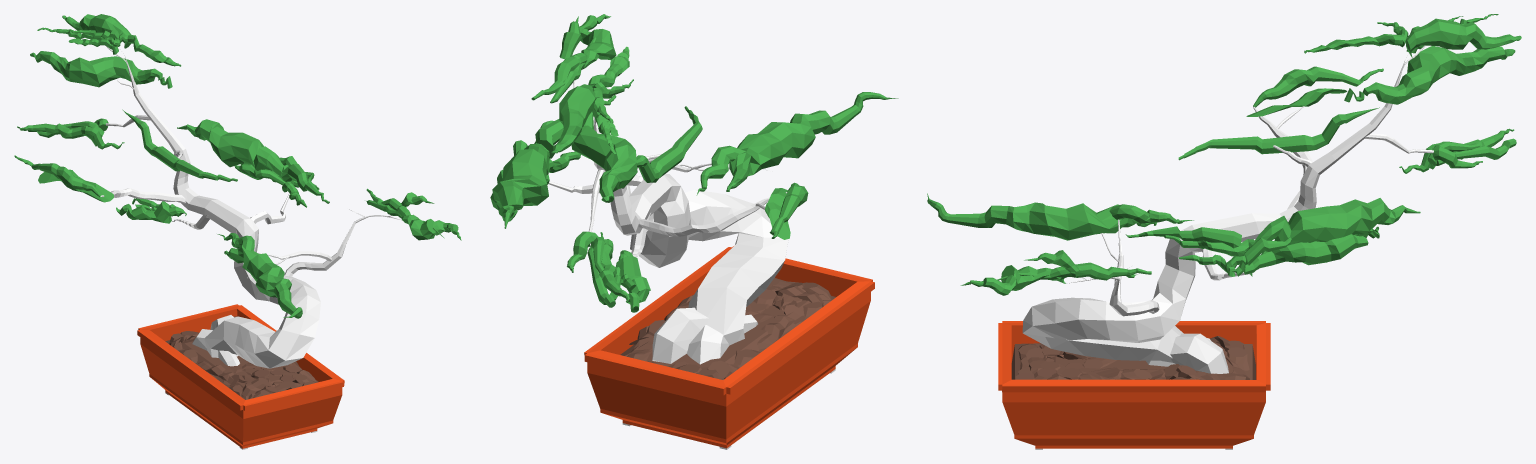
The model's file is scene_imbI9ocPvG.glb.
3 renders of one model, left to right at view 1: azimuth 30°, elevation 25°; view 2: azimuth 150°, elevation 25°; view 3: azimuth 270°, elevation 25°, orthographic. The views are drawn at different scales.
Parts seen in each view (by area): view 1: Node; view 2: Node; view 3: Node.
Part boxes in pixels (x1,y1,x2,y2): Node: (14,14,461,449); Node: (490,14,898,449); Node: (927,14,1521,449).
Bounding box in the file's own units: 2.78 × 2.84 × 3.85.
